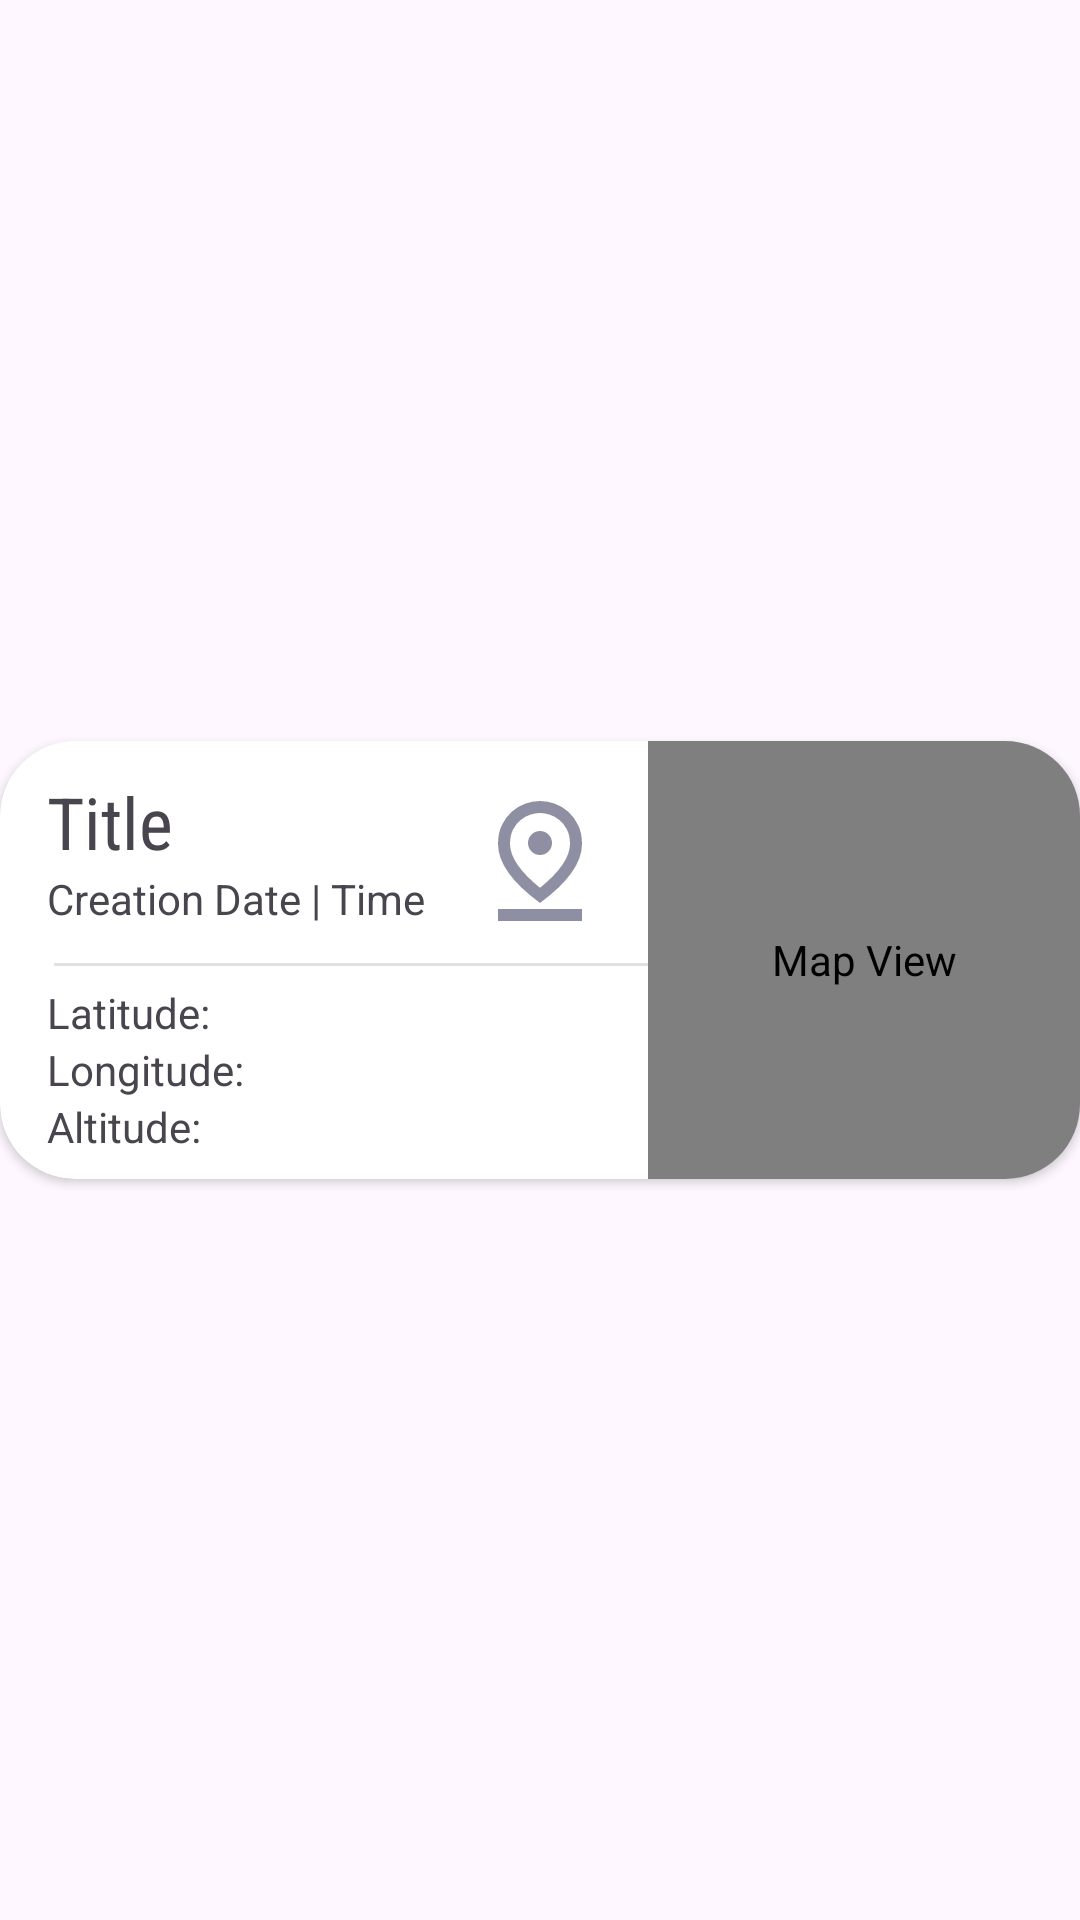

Where icons sit on this 1080x1920 app screen, as (x1, y1, x2, y2):
Location Type: (498, 801, 582, 921)
